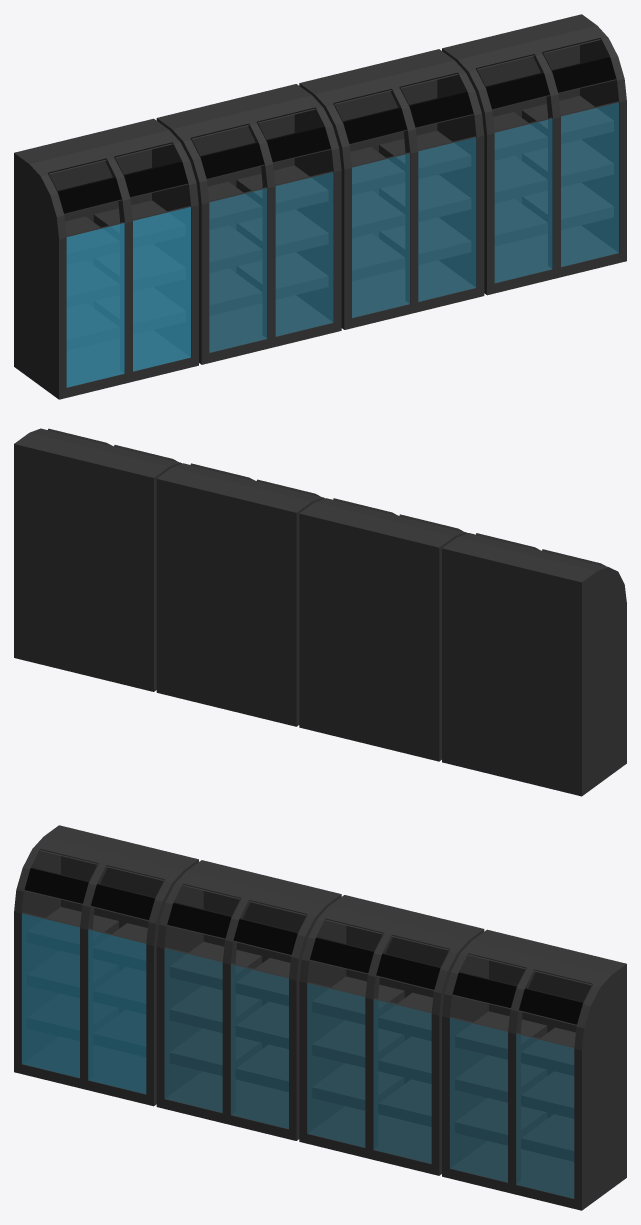
Rendered from Fridge.fbx.
3 views of the same model, one above another, from view 1: azimuth 30°, elevation 25°; view 2: azimuth 150°, elevation 25°; view 3: azimuth 330°, elevation 25° (orthographic).
Parts seen in each view (by area): view 1: Mulriplefridge, Single Fridge; view 2: Mulriplefridge; view 3: Mulriplefridge, Single Fridge.
Part boxes in pixels (bbox=[...]): Mulriplefridge: bbox=[14, 14, 626, 399]; Single Fridge: bbox=[67, 207, 190, 387]; Mulriplefridge: bbox=[14, 428, 626, 796]; Mulriplefridge: bbox=[14, 825, 626, 1210]; Single Fridge: bbox=[22, 914, 145, 1093].
Bounding box in the file's own units: 2582 × 930 × 355.
